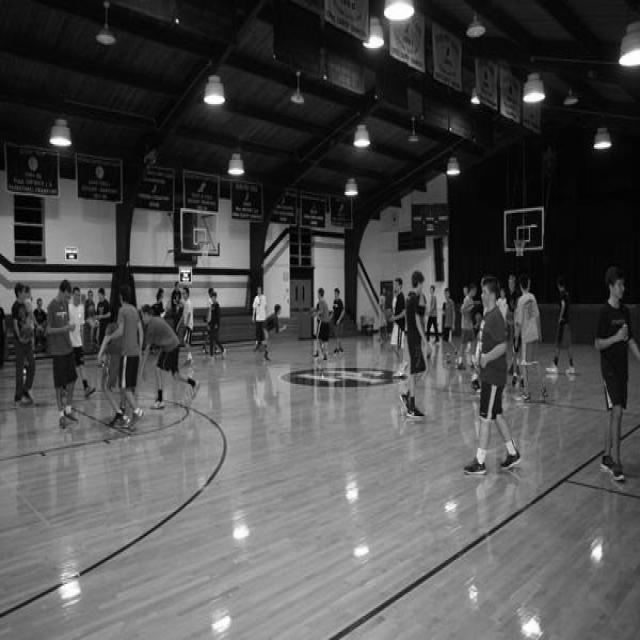person: (465, 276, 523, 478), (592, 266, 638, 484), (100, 288, 146, 429), (43, 282, 85, 418), (140, 306, 181, 411), (402, 276, 432, 418), (512, 276, 544, 404), (8, 284, 38, 406), (70, 281, 95, 404), (550, 274, 575, 377), (251, 298, 290, 363), (310, 287, 333, 356), (178, 284, 197, 367), (393, 273, 408, 378), (251, 284, 272, 356), (462, 284, 479, 372), (202, 288, 221, 358), (442, 286, 456, 380), (93, 286, 108, 357), (332, 284, 346, 358), (84, 286, 98, 354), (425, 285, 441, 344), (34, 294, 48, 350), (22, 282, 36, 330), (506, 270, 515, 340), (385, 285, 394, 339), (498, 287, 511, 324), (379, 284, 387, 342), (170, 275, 180, 320), (206, 286, 214, 340), (155, 286, 165, 324)
